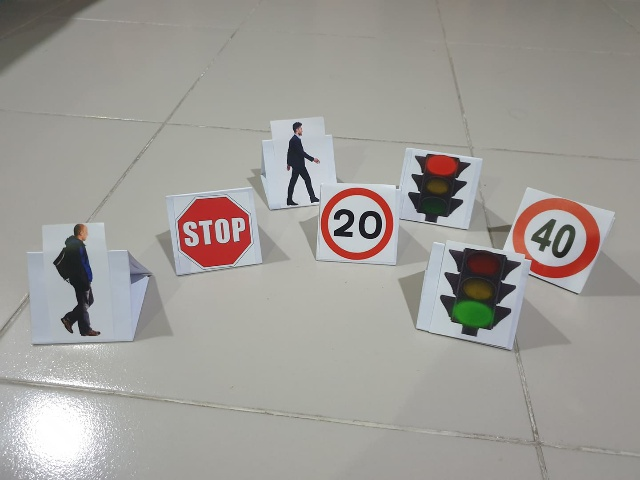Green: (442, 245, 519, 341)
Limit 20: (316, 187, 394, 261)
Limit 40: (516, 199, 599, 280)
Person: (41, 227, 107, 337), (276, 119, 317, 209)
Red: (405, 150, 471, 228)
Stop: (172, 193, 255, 271)
